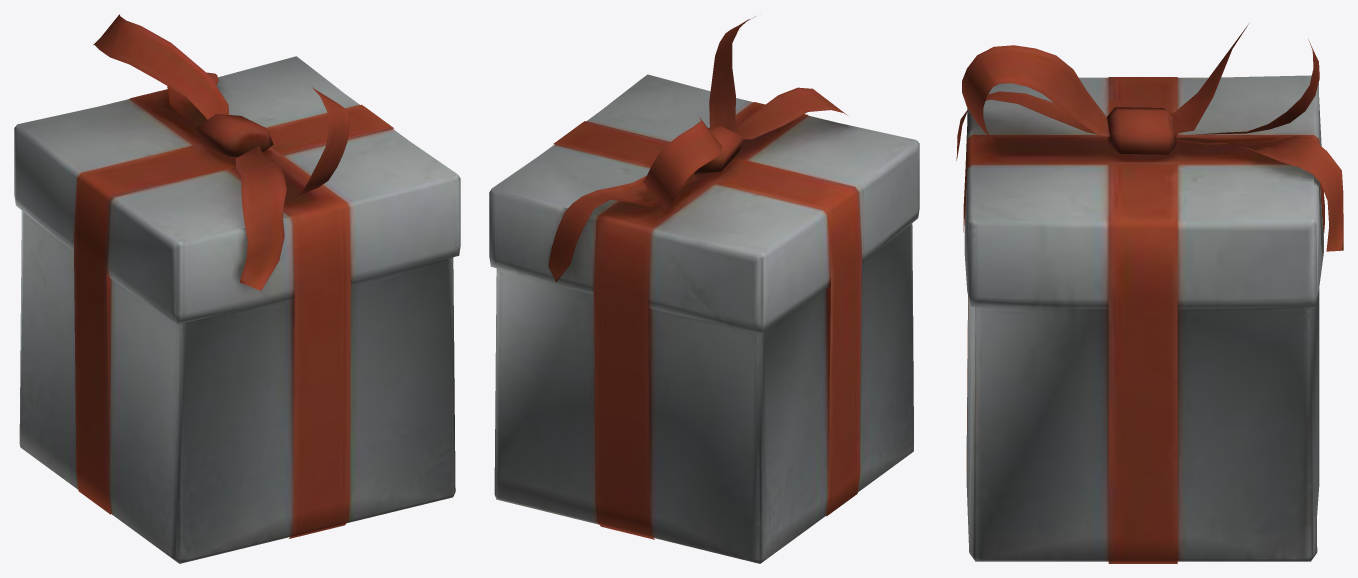
Rendered from present_5.glb.
3 views of the same model, side by side, from view 1: azimuth 30°, elevation 25°; view 2: azimuth 150°, elevation 25°; view 3: azimuth 270°, elevation 25° (orthographic). The views are drawn at different scales.
Parts seen in each view (by area): view 1: present_5; view 2: present_5; view 3: present_5.
Boxes of the visible parts, x1=… form: present_5: x1=14, y1=14, x2=460, y2=563; present_5: x1=489, y1=16, x2=919, y2=563; present_5: x1=956, y1=24, x2=1343, y2=563.
Bounding box in the file's own units: 0.6033 × 0.8382 × 0.6602.
1 material, 1 textured.
